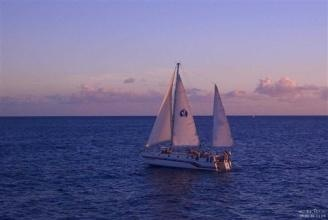fanchuan: (136, 61, 244, 166)
